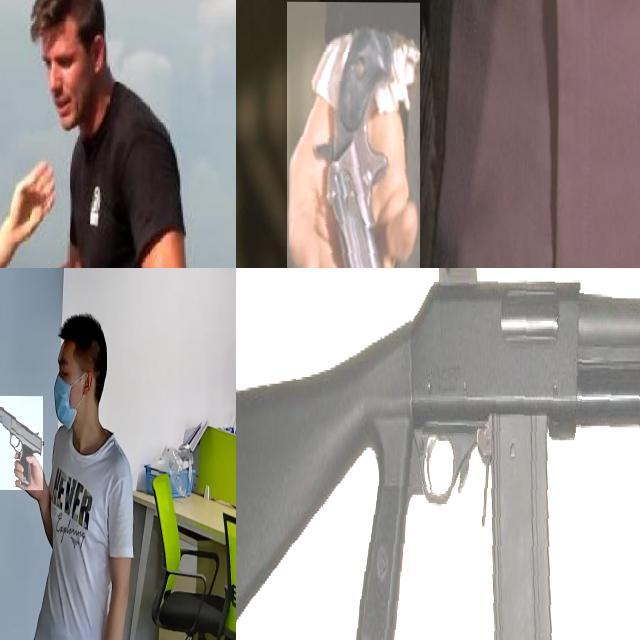gun-knife-thesis - v11 Yolov5 augmented: (236, 268, 640, 640), (287, 1, 420, 268), (0, 395, 42, 489)
